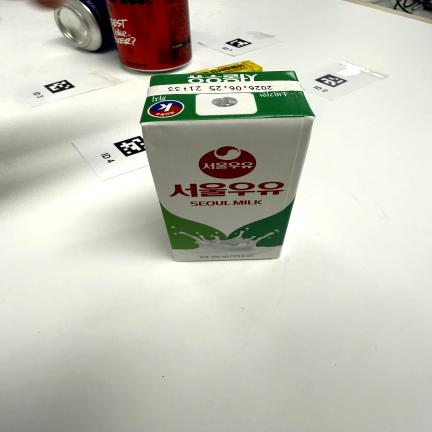milk_green: (141, 71, 314, 262)
